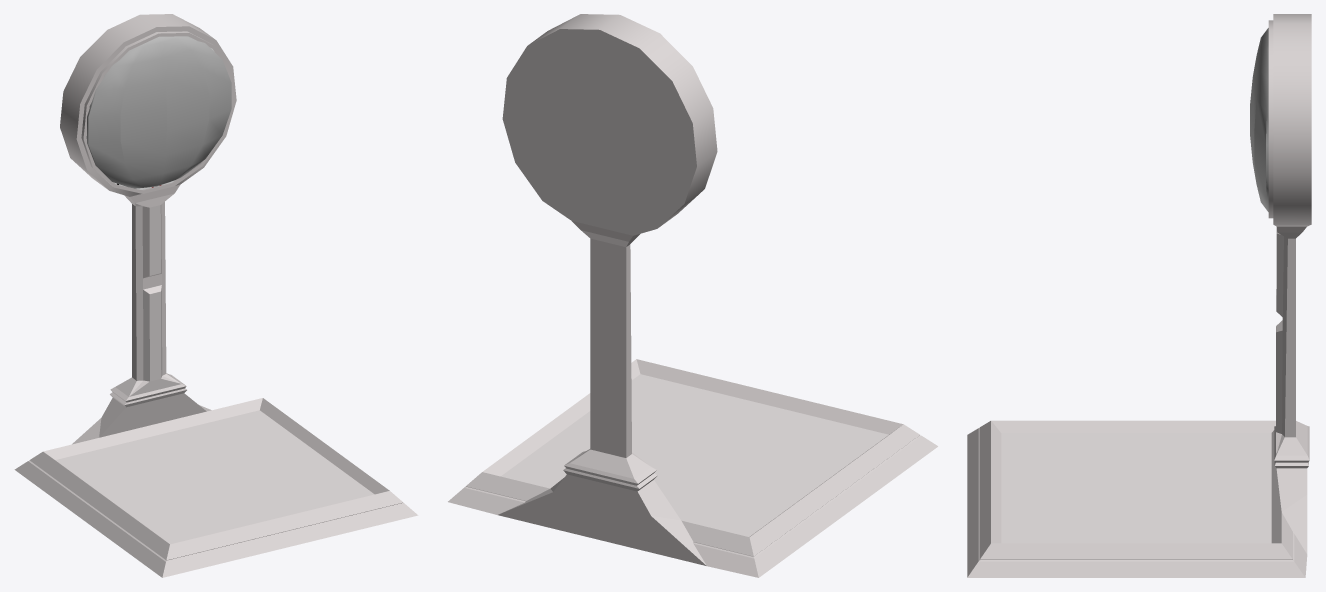
The picture shows the model from 3 angles, left to right: view 1: azimuth 30°, elevation 25°; view 2: azimuth 150°, elevation 25°; view 3: azimuth 270°, elevation 25°; orthographic projection. The views are drawn at different scales.
Visible parts, largest first — view 1: Sphere; view 2: Sphere; view 3: Sphere.
Part boxes in pixels (x1=…): Sphere: x1=14, y1=14, x2=418, y2=577; Sphere: x1=448, y1=14, x2=937, y2=577; Sphere: x1=967, y1=14, x2=1311, y2=577.
Size of the model in its own units: 119 by 187 by 121.
